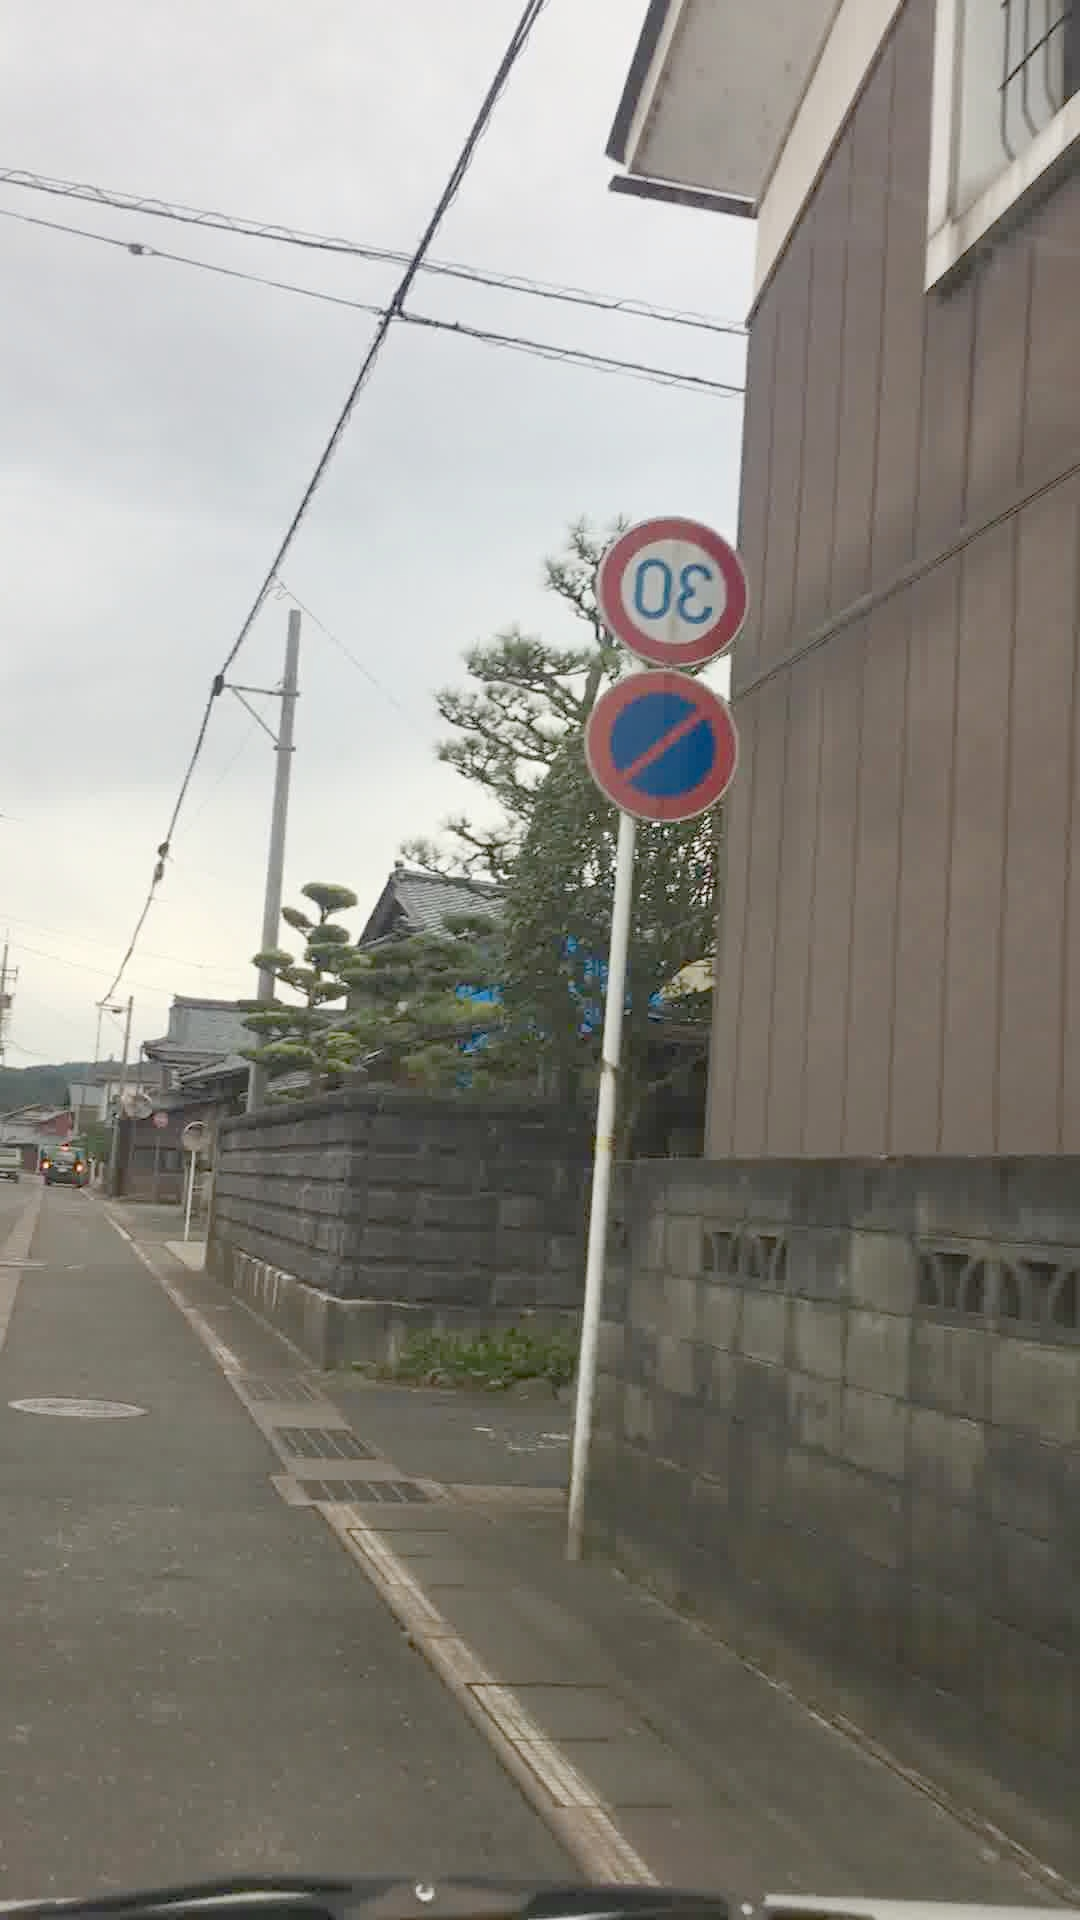Prohibition_sign: (582, 670, 750, 822)
Speed_sign: (589, 510, 762, 680)
